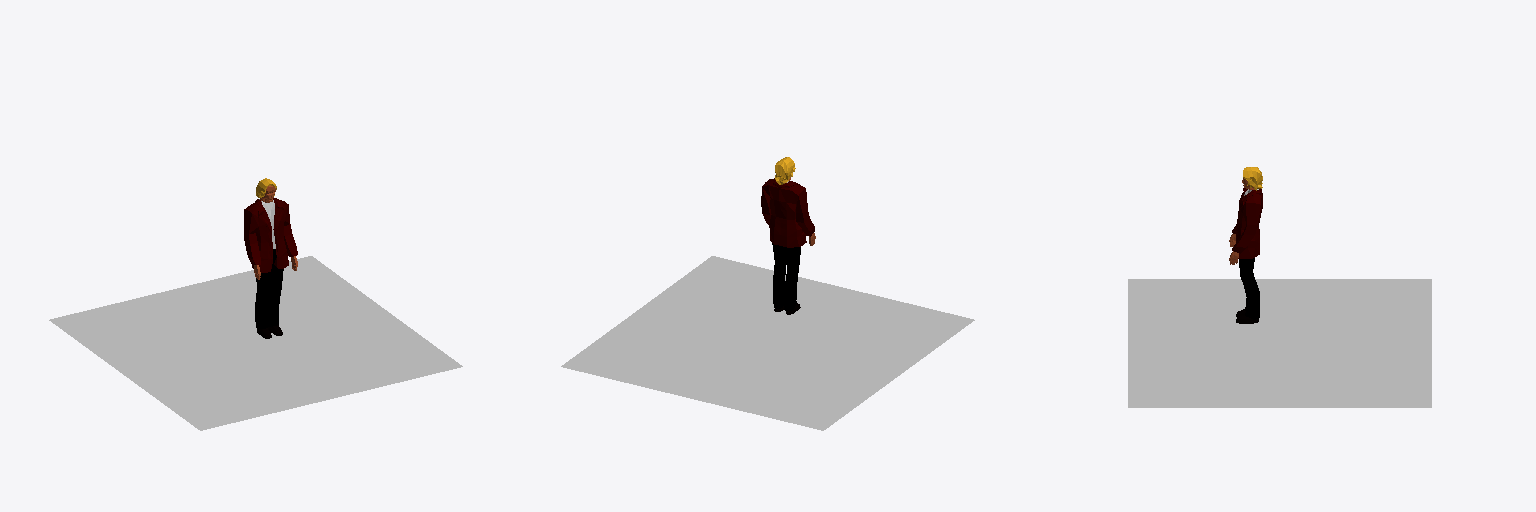
Rendered from person2.obj.
The picture shows the model from 3 angles: view 1: azimuth 30°, elevation 25°; view 2: azimuth 150°, elevation 25°; view 3: azimuth 270°, elevation 25°; orthographic projection.
Visible parts, largest first — view 1: Plane, Cube.002_Cube.001; view 2: Plane, Cube.002_Cube.001; view 3: Plane, Cube.002_Cube.001.
Boxes of the visible parts, x1=… form: Plane: x1=49, y1=256, x2=462, y2=430; Cube.002_Cube.001: x1=244, y1=178, x2=297, y2=338; Plane: x1=561, y1=256, x2=974, y2=430; Cube.002_Cube.001: x1=761, y1=157, x2=815, y2=314; Plane: x1=1128, y1=279, x2=1431, y2=407; Cube.002_Cube.001: x1=1229, y1=167, x2=1262, y2=323.
Size of the model in its own units: 8.39 by 5.32 by 8.39.